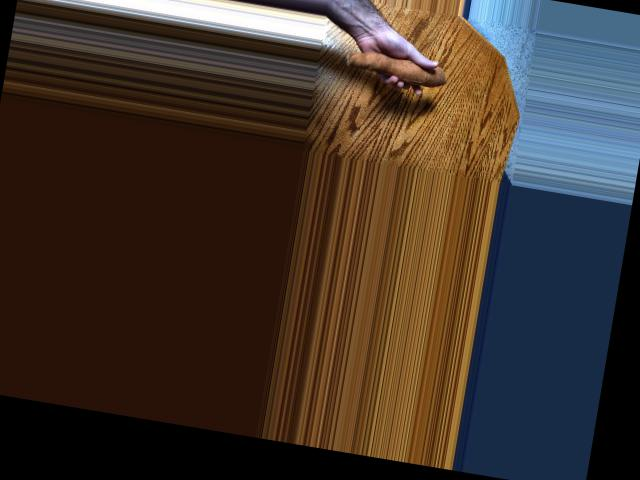sweet_potato: (339, 35, 459, 94)
